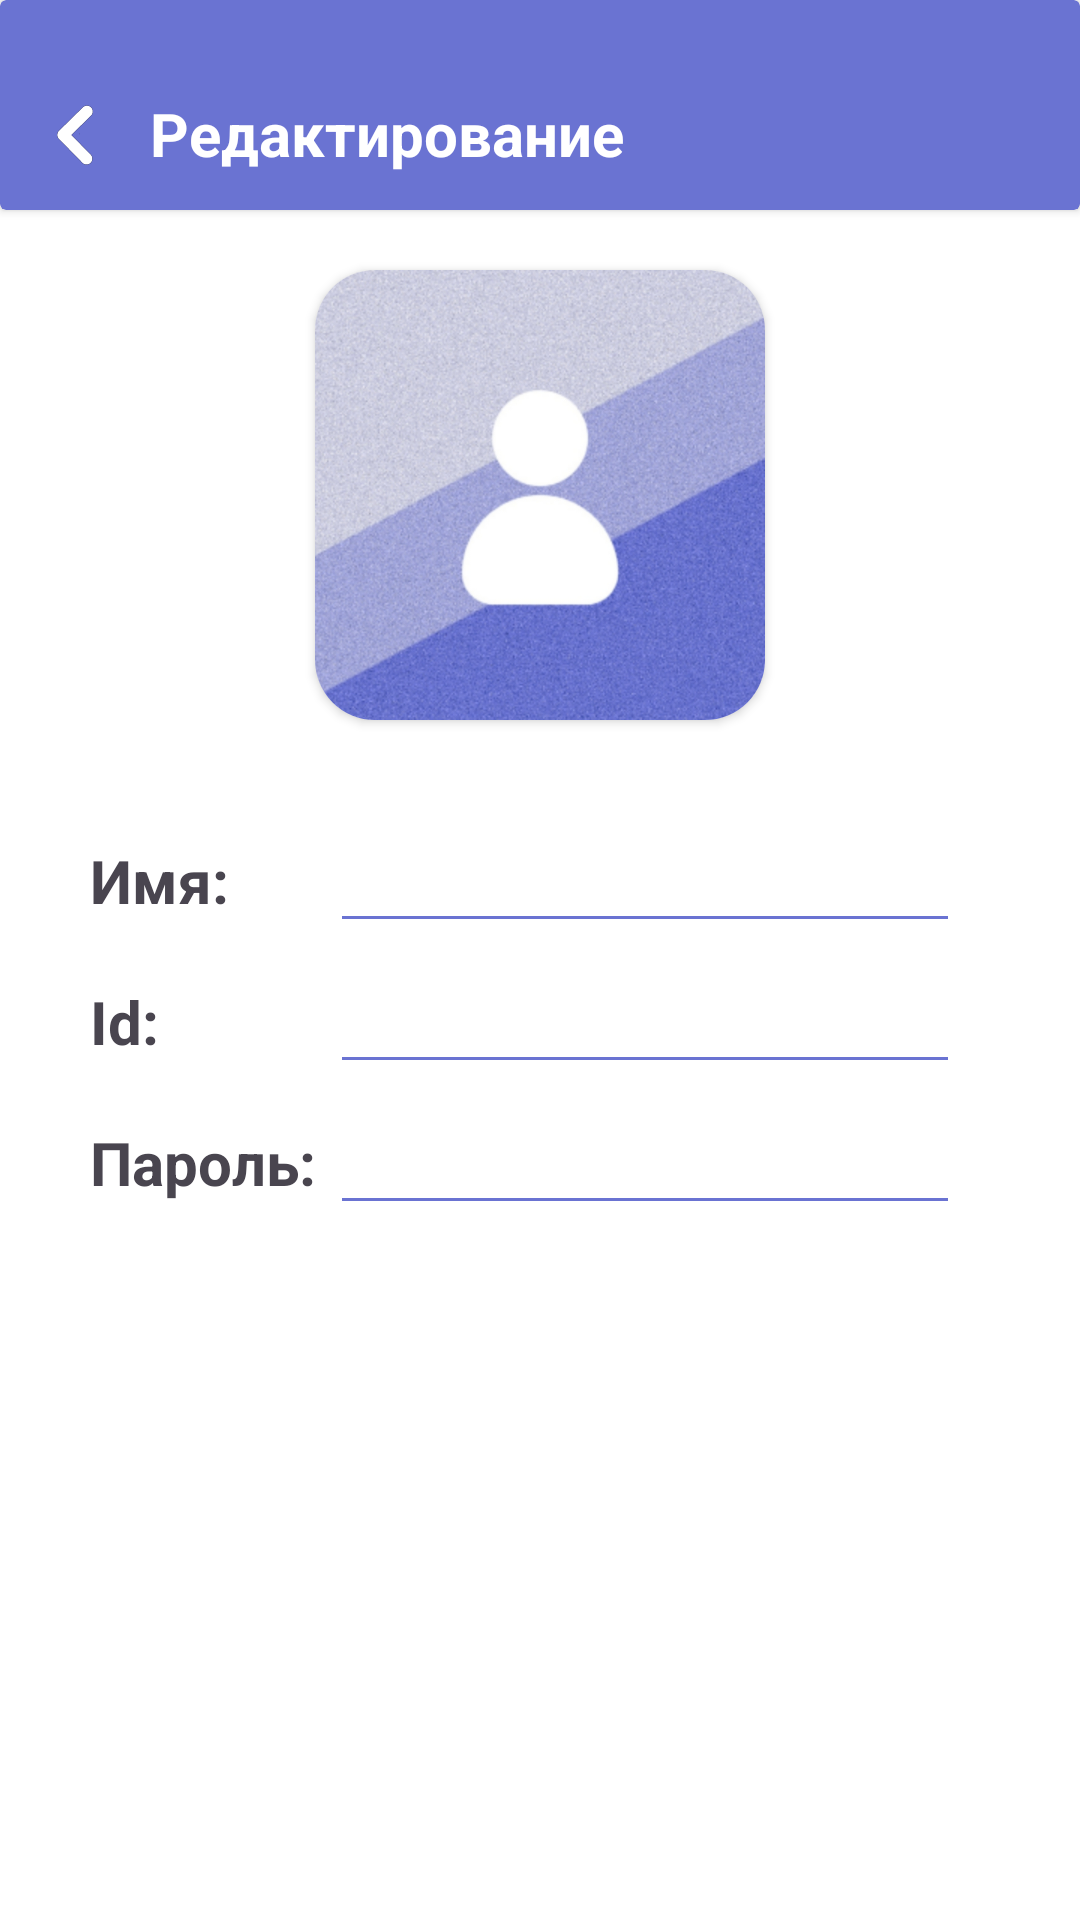

Screen size 1080×1920. Icon name, then its box in pixels as {"left": x1, "top": y1, "right": x2, "bottom": y2}:
back: {"left": 57, "top": 105, "right": 93, "bottom": 165}
